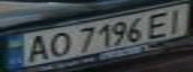1: (93, 20, 115, 48)
6: (124, 15, 151, 44)
7: (75, 25, 96, 53)
9: (109, 18, 130, 46)
A: (18, 33, 54, 63)
E: (142, 9, 175, 38)
I: (163, 6, 190, 34)
O: (42, 29, 75, 58)
